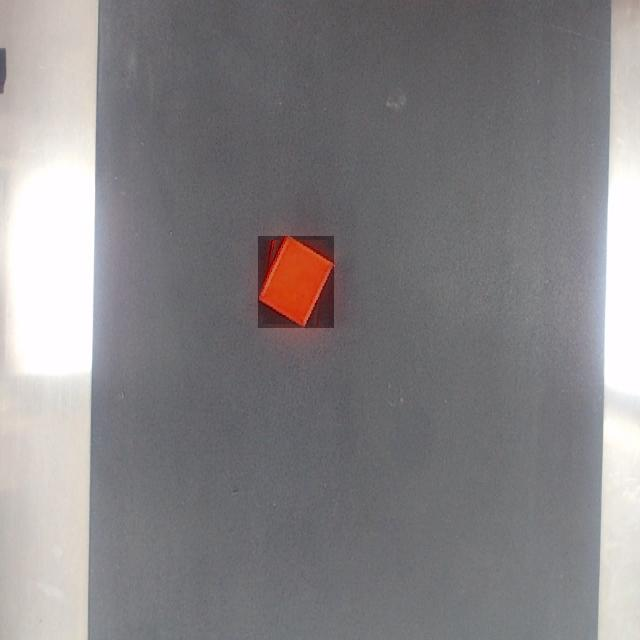Rojo: (259, 237, 334, 328)
